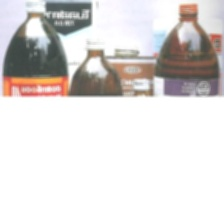book: (28, 0, 102, 125), (93, 53, 166, 131)
insecticide: (149, 0, 221, 139), (0, 0, 69, 143), (69, 33, 125, 142), (126, 77, 159, 147)
